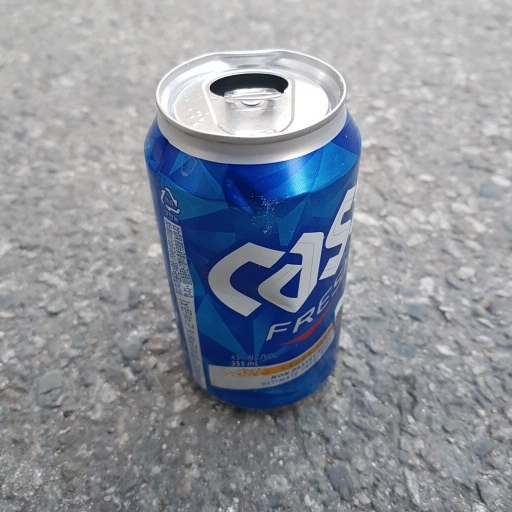Metal_0: (143, 47, 363, 414)
